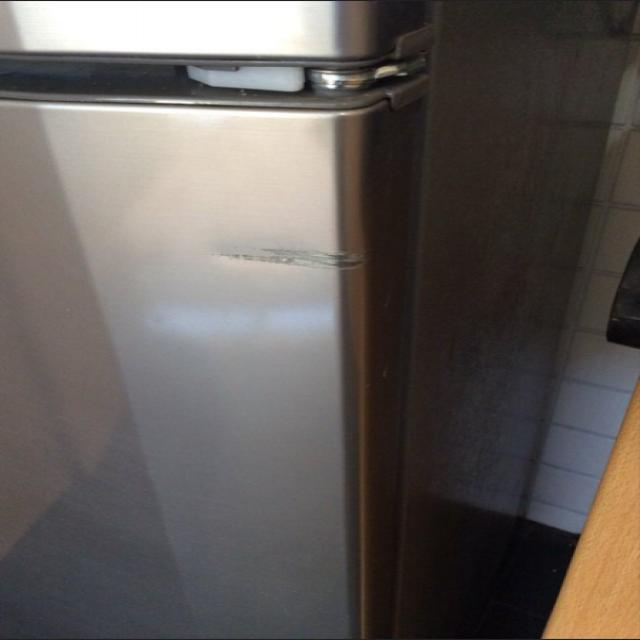dents: (232, 237, 386, 274)
